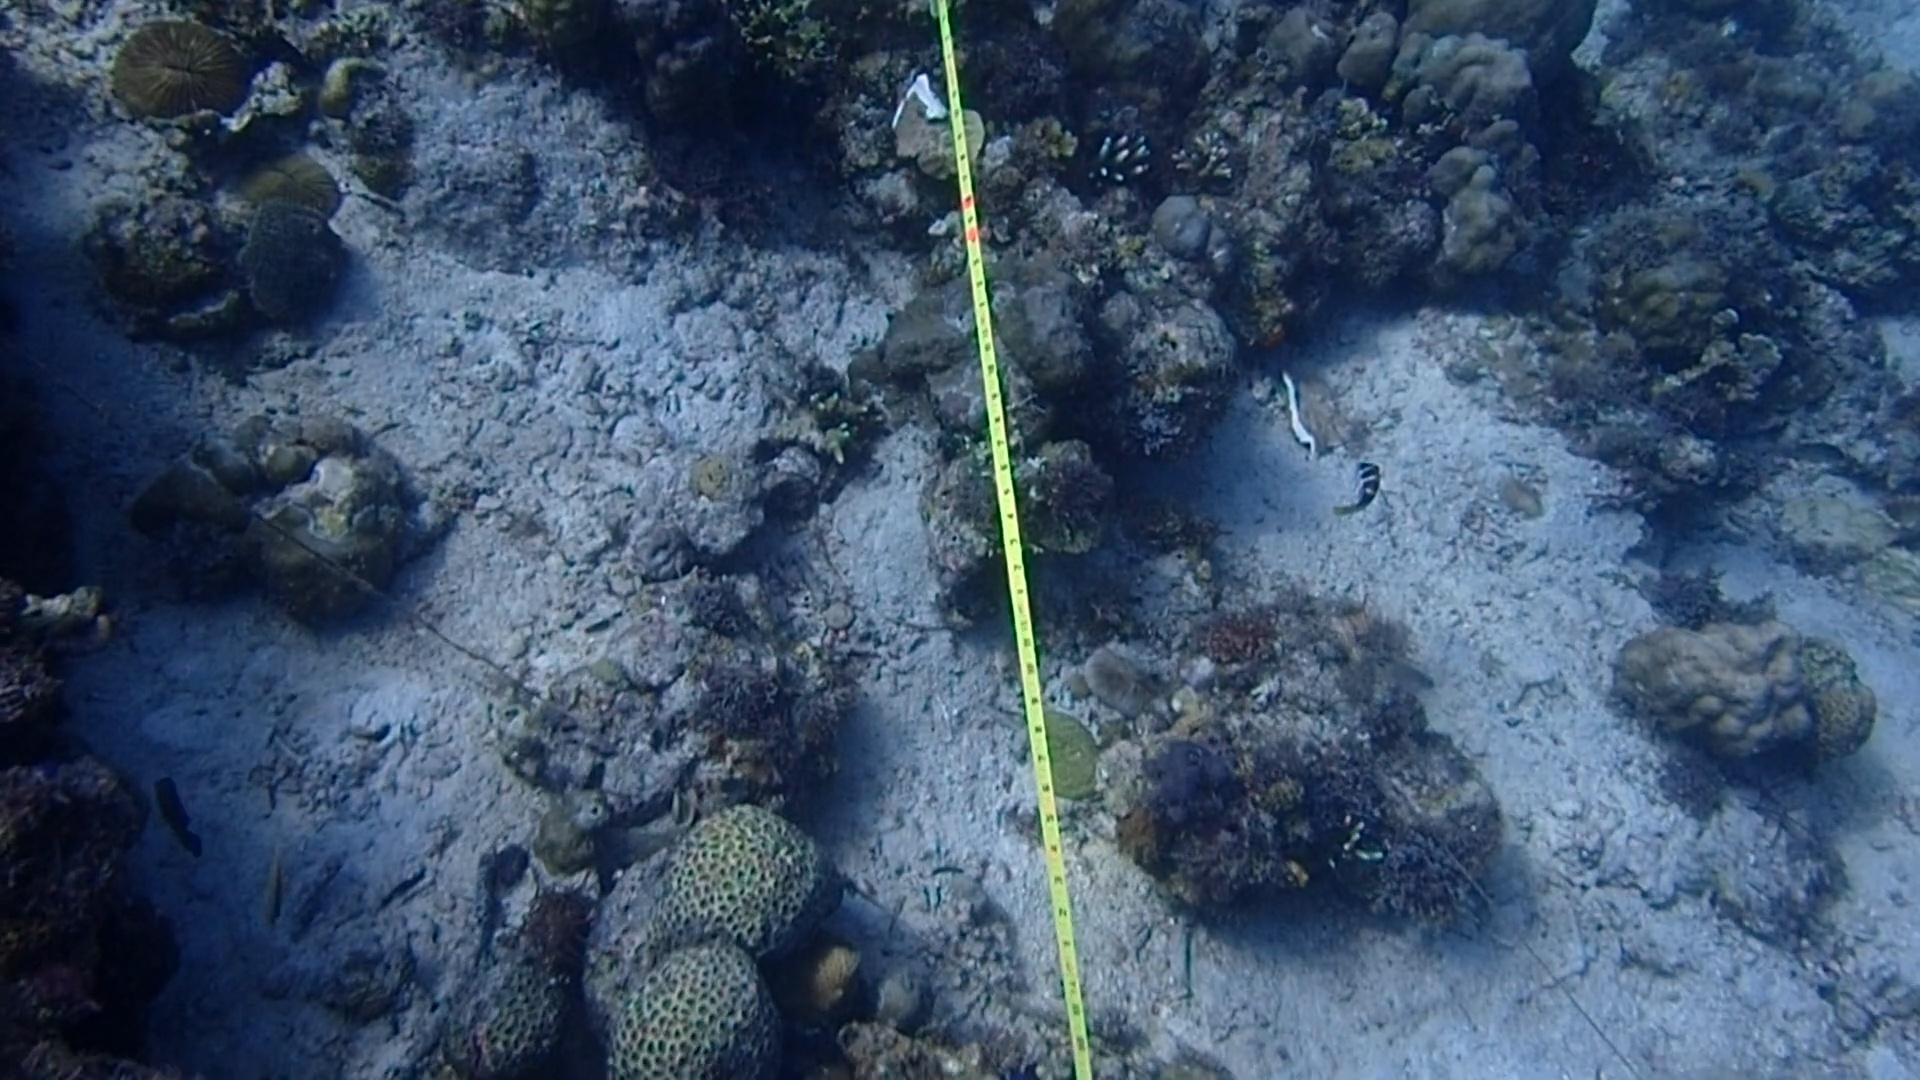Striped Fish: (1320, 448, 1398, 522)
